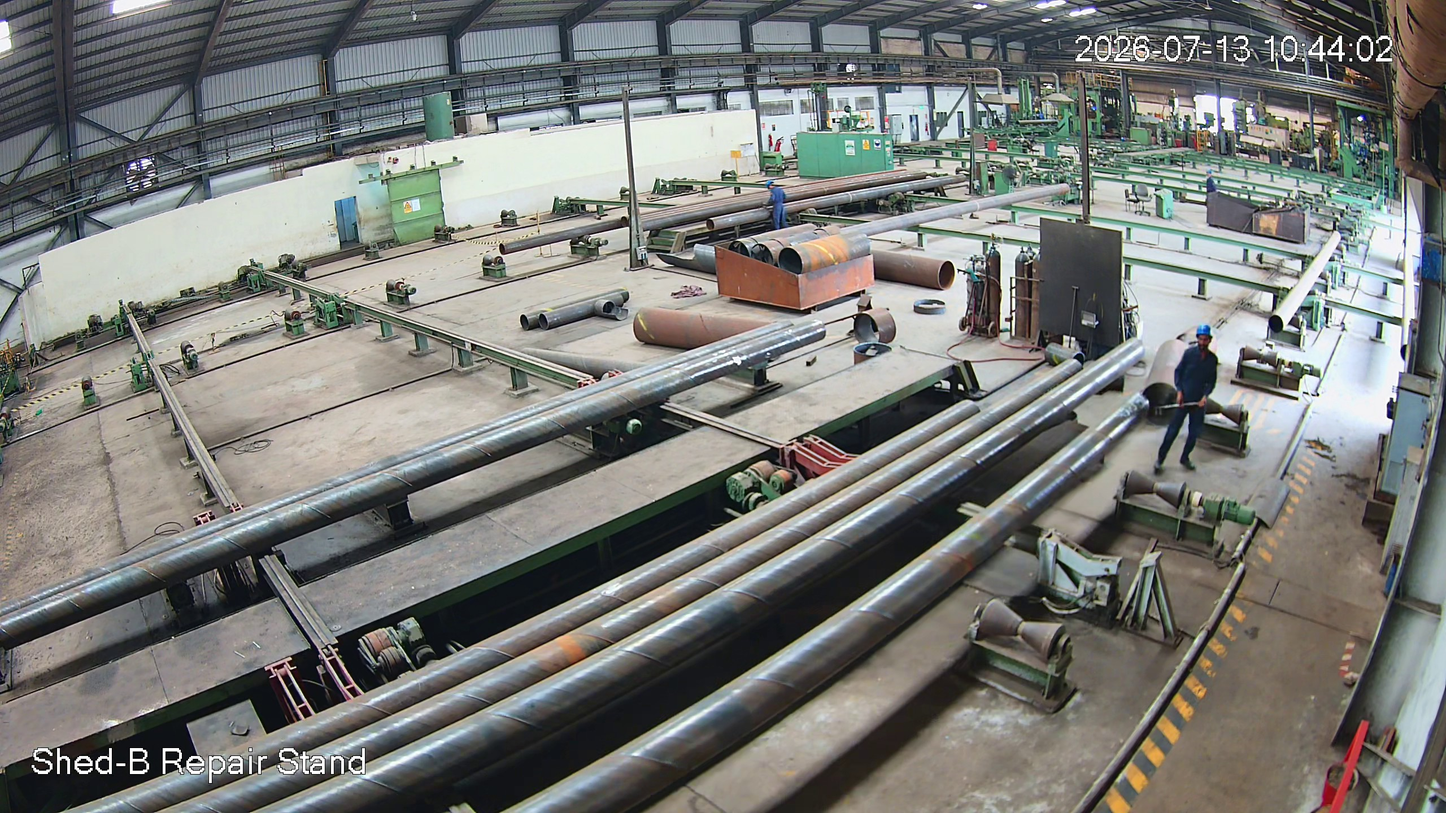Helmet: (1192, 322, 1216, 357)
Person: (1152, 323, 1221, 488)
